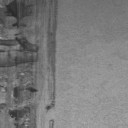slag inclusion: (0, 0, 59, 128), (48, 119, 54, 128)
